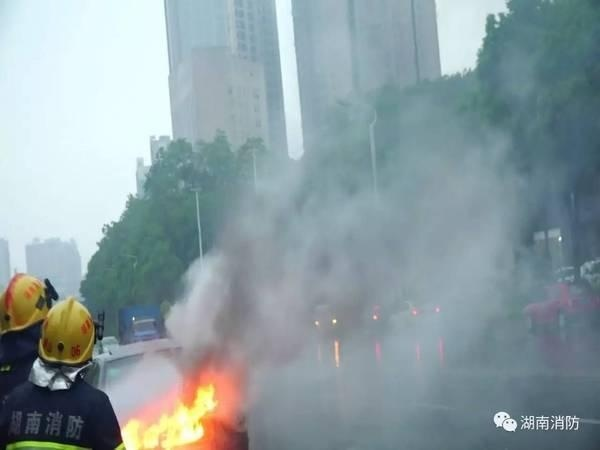fire: (114, 383, 221, 447)
